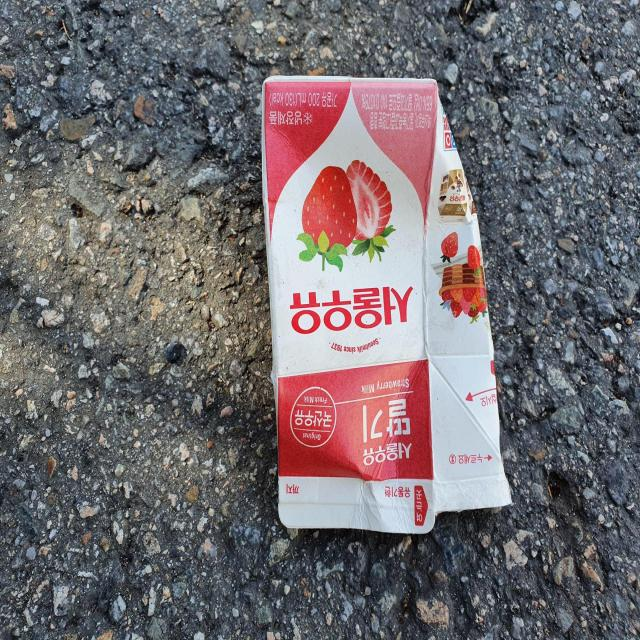paperpack: (263, 76, 512, 534)
